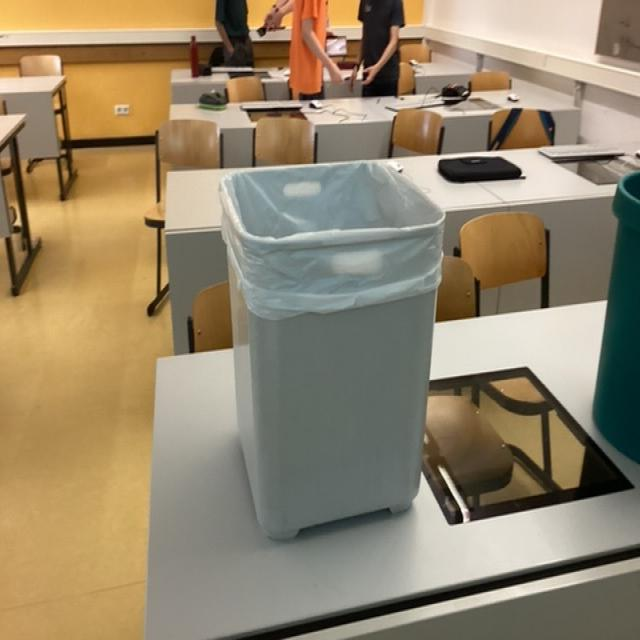garbage container: (207, 127, 468, 554)
